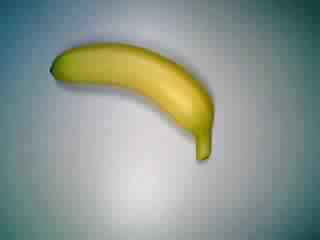banana: (46, 36, 225, 170)
